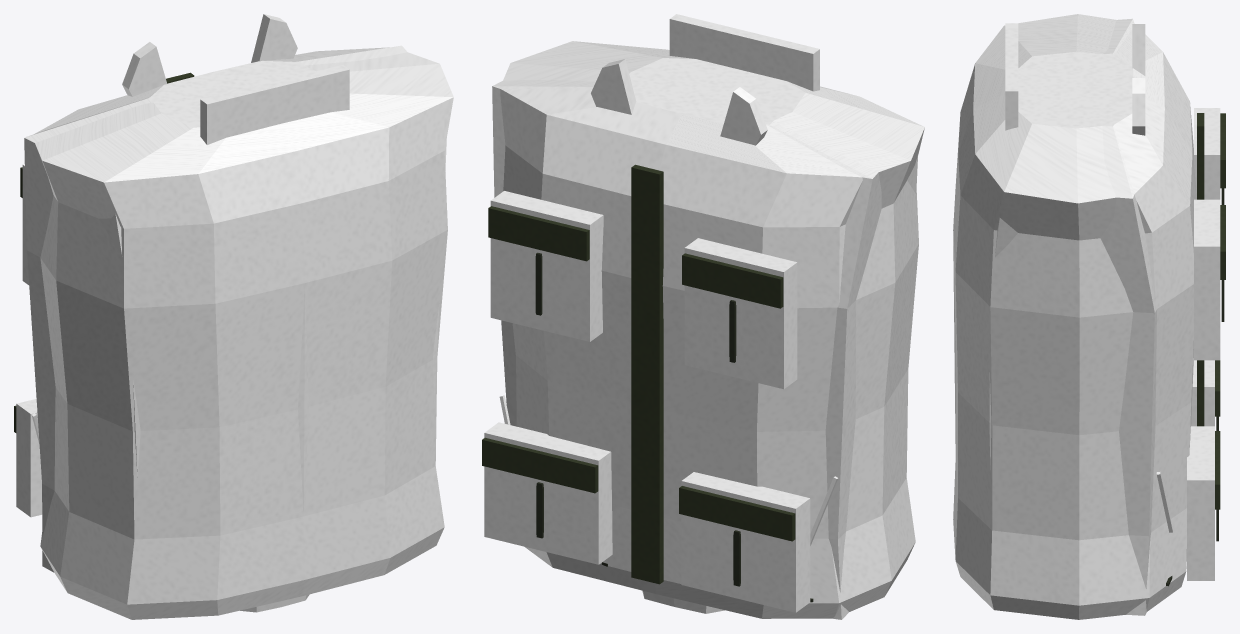
The model's file is jacket_bdu.glb.
The picture shows the model from 3 angles, left to right: view 1: azimuth 30°, elevation 25°; view 2: azimuth 150°, elevation 25°; view 3: azimuth 270°, elevation 25°; orthographic projection. The views are drawn at different scales.
Parts seen in each view (by area): view 1: jacket_bdu_torso_LOD0_RAID_cloth.001, jacket_bdu_torso_LOD1_RAID_cloth.001; view 2: jacket_bdu_torso_LOD0_RAID_cloth.001, jacket_bdu_torso_LOD1_RAID_cloth.001, jacket_bdu_torso_LOD0_RAID_reinforce.001, jacket_bdu_torso_LOD1_RAID_reinforce.001, jacket_bdu_torso_LOD0_RAID_seam.001, jacket_bdu_upperL_LOD0_RAID_cloth.001; view 3: jacket_bdu_torso_LOD0_RAID_cloth.001, jacket_bdu_torso_LOD1_RAID_cloth.001, jacket_bdu_torso_LOD1_RAID_reinforce.001, jacket_bdu_torso_LOD0_RAID_reinforce.001, jacket_bdu_torso_LOD0_RAID_seam.001.
Part boxes in pixels (x1,y1,x2,y2): jacket_bdu_torso_LOD0_RAID_cloth.001: [16, 14, 453, 619]; jacket_bdu_torso_LOD1_RAID_cloth.001: [16, 45, 446, 572]; jacket_bdu_torso_LOD0_RAID_cloth.001: [484, 17, 924, 618]; jacket_bdu_torso_LOD1_RAID_cloth.001: [484, 14, 917, 619]; jacket_bdu_torso_LOD0_RAID_reinforce.001: [482, 165, 795, 583]; jacket_bdu_torso_LOD1_RAID_reinforce.001: [482, 164, 795, 584]; jacket_bdu_torso_LOD0_RAID_seam.001: [535, 252, 813, 602]; jacket_bdu_upperL_LOD0_RAID_cloth.001: [642, 590, 724, 613]; jacket_bdu_torso_LOD0_RAID_cloth.001: [953, 14, 1220, 619]; jacket_bdu_torso_LOD1_RAID_cloth.001: [953, 18, 1220, 615]; jacket_bdu_torso_LOD1_RAID_reinforce.001: [1197, 113, 1225, 509]; jacket_bdu_torso_LOD0_RAID_reinforce.001: [1197, 114, 1225, 506]; jacket_bdu_torso_LOD0_RAID_seam.001: [1166, 188, 1224, 586].
Bounding box in the file's own units: 0.4795 × 0.6041 × 0.2916.
3 materials, 3 textured.
